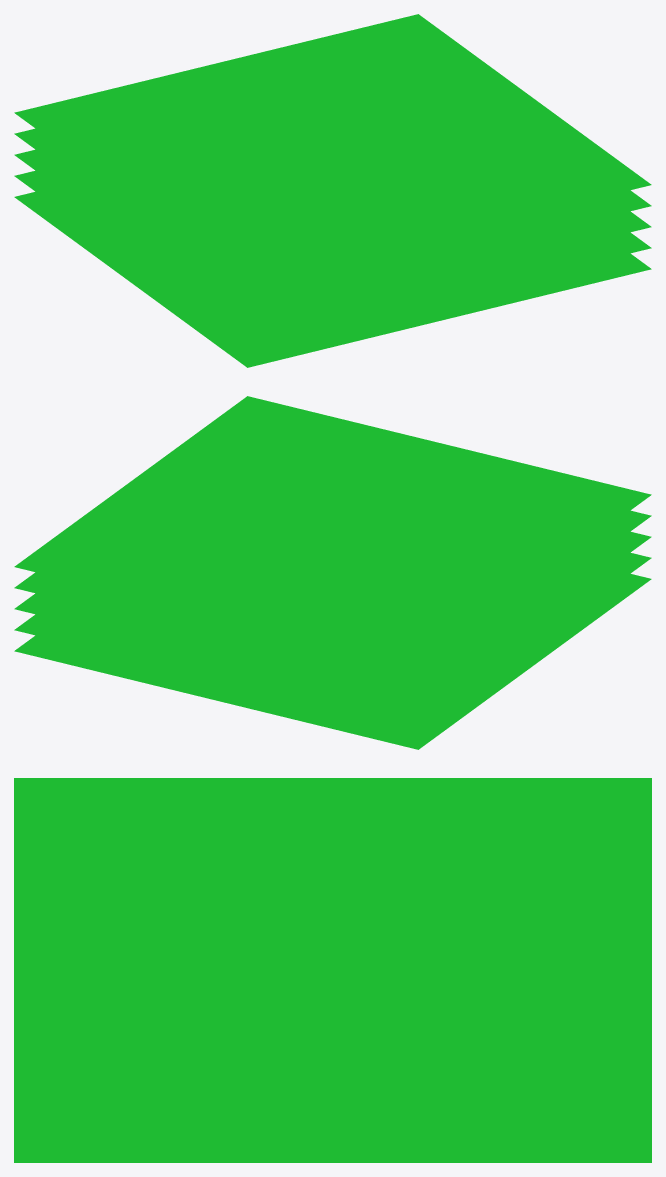
The picture shows the model from 3 angles, top to bottom: view 1: azimuth 30°, elevation 25°; view 2: azimuth 150°, elevation 25°; view 3: azimuth 270°, elevation 25°; orthographic projection. The views are drawn at different scales.
Visible parts, largest first — view 1: a_004, a_003, a, a_002, a_001; view 2: a_004, a_003, a, a_002, a_001; view 3: a_004, a_002, a_003, a, a_001.
Part boxes in pixels (x1,y1,x2,y2): a_004: [14, 14, 651, 283]; a_003: [14, 128, 651, 304]; a: [14, 191, 651, 367]; a_002: [14, 149, 651, 325]; a_001: [14, 170, 651, 346]; a_004: [14, 396, 651, 665]; a_003: [14, 510, 651, 686]; a: [14, 573, 651, 749]; a_002: [14, 531, 651, 707]; a_001: [14, 552, 651, 728]; a_004: [14, 778, 651, 1047]; a_002: [14, 1076, 651, 1105]; a_003: [14, 1047, 651, 1076]; a: [14, 1134, 651, 1162]; a_001: [14, 1105, 651, 1133].
Bounding box in the file's own units: 20.1 × 20.1 × 4.
